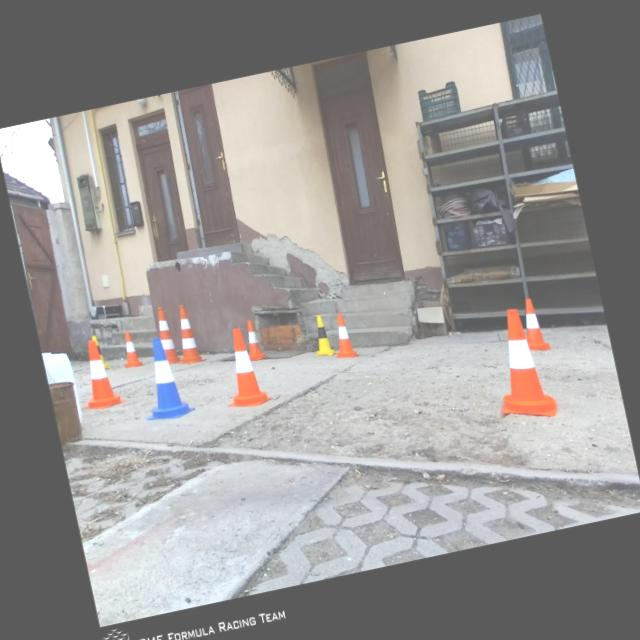blue_cone: (130, 332, 196, 423)
large_orange_cone: (166, 302, 206, 366), (152, 304, 182, 364)
orange_cone: (480, 303, 560, 427), (212, 322, 274, 412), (69, 334, 126, 412), (518, 296, 550, 354), (327, 311, 358, 360), (240, 316, 268, 361), (118, 329, 142, 368)
yellow_cone: (308, 312, 336, 358), (90, 333, 110, 370)
